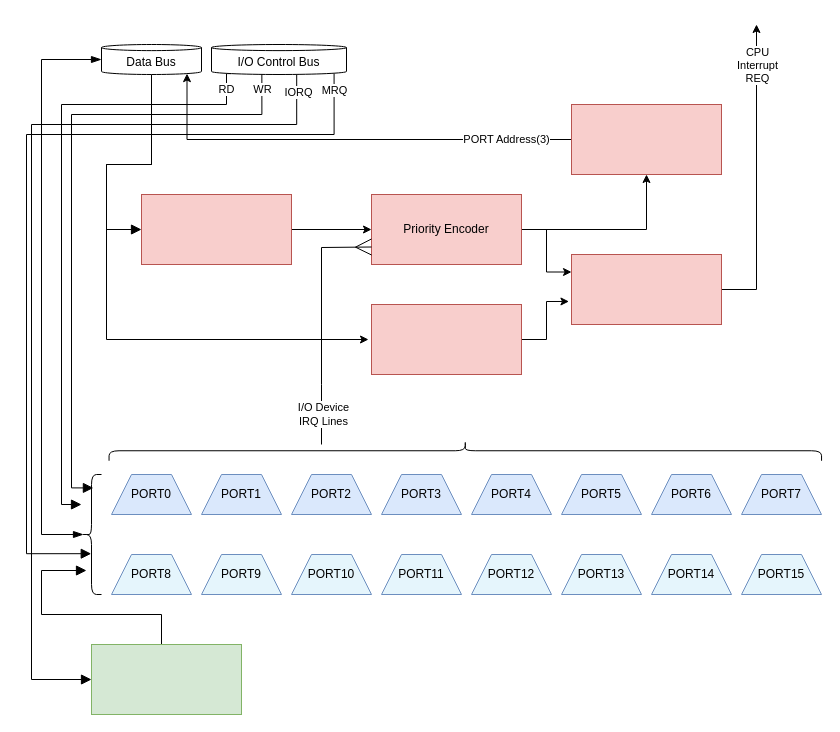
The diagram is 840 pixels wide and 732 high, and some of its shapes have lost their labels. Each missing label, with the centre of its shape:
"Comparator" belongs at [646,289].
"IRQ Mask Register (8)" belongs at [216,229].
"IRQ Port, Latch (3)" belongs at [646,139].
"PORT Enable Decoder" belongs at [166,679].
"Priority Level Register (4)" belongs at [446,339].
